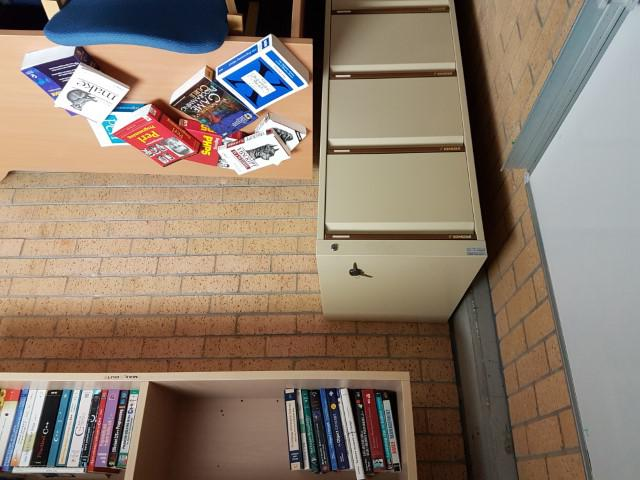key: (348, 267, 374, 280)
